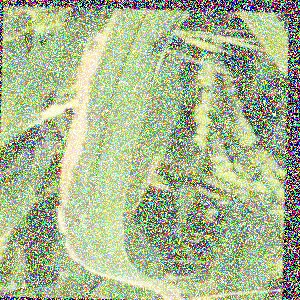Leaf_Blast: (60, 9, 144, 255)
